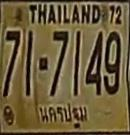1: (25, 30, 32, 97), (74, 31, 80, 98)
4: (84, 30, 103, 98)
7: (48, 30, 68, 98), (2, 30, 19, 99)
9: (103, 31, 122, 94)
NPT: (37, 101, 90, 132)
